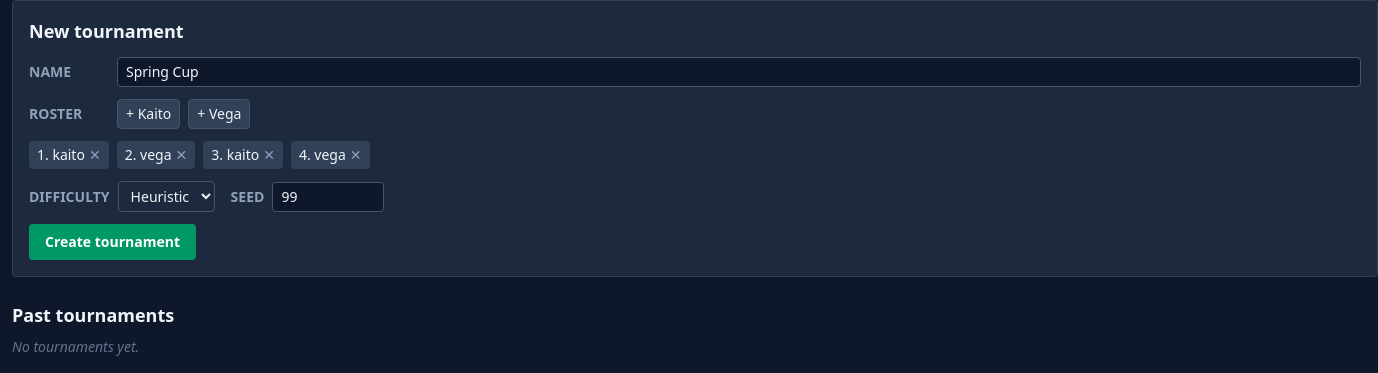
TournamentScreen › disables Create until the roster has at least two entrants
What coordinates should you click on to do the following:
click the button named "remove entrant"
I would click on:
 (95, 155)
Its box is [89,145,101,165].
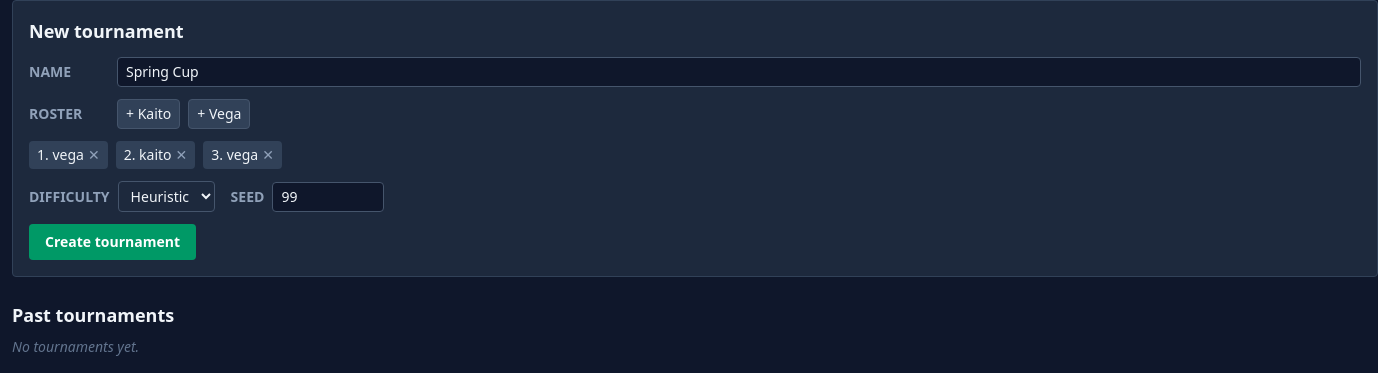
What coordinates should you click on to do the following:
click the button named "remove entrant"
I would click on:
 (94, 155)
Its box is [88,145,100,165].
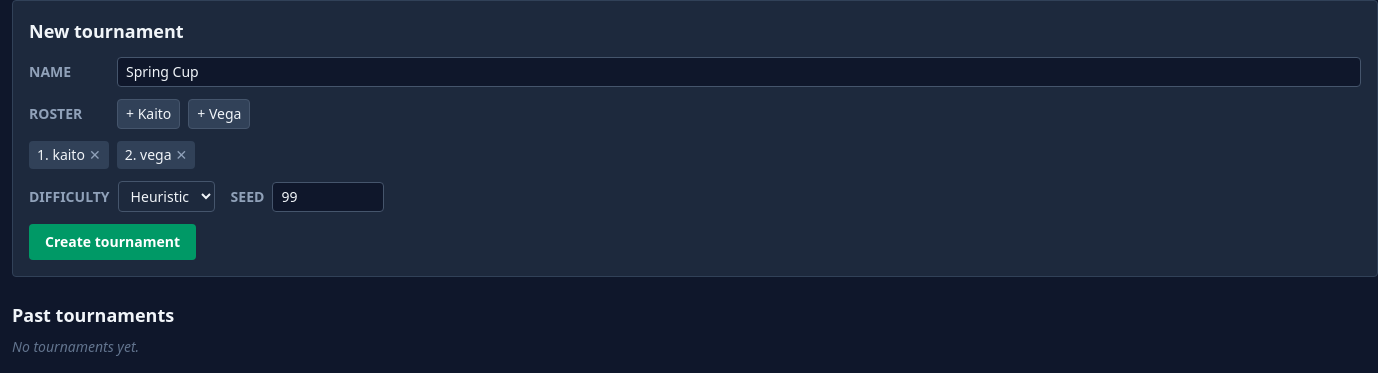
What coordinates should you click on to do the following:
click the button named "remove entrant"
I would click on:
 (95, 155)
Its box is [89,145,101,165].
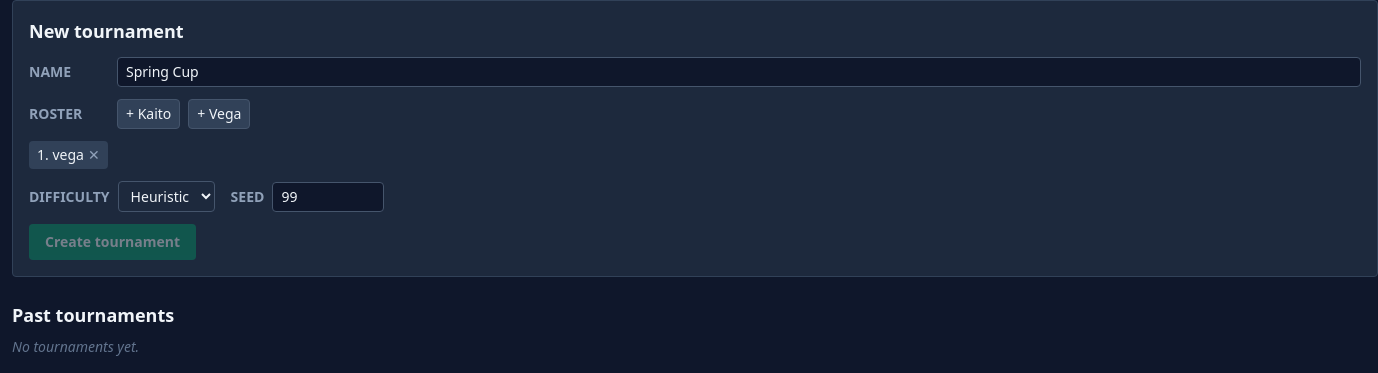
What coordinates should you click on to do the following:
click the button named "remove entrant"
I would click on:
 (94, 155)
Its box is [88,145,100,165].
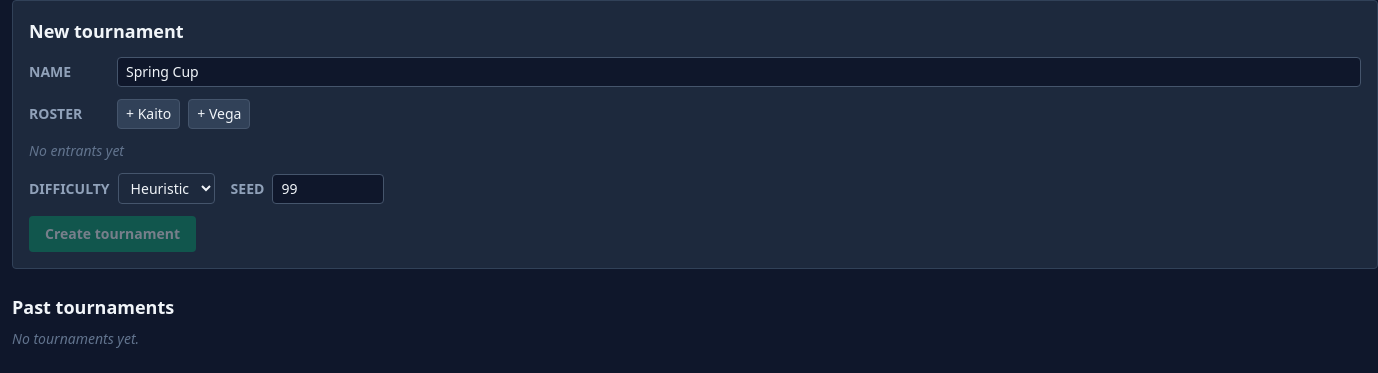
Now the button with test id "create-tournament" is disabled, box [29,216,196,252]
What coordinates should you click on to do the following:
click the button with test id "add-kaito"
I would click on:
 (149, 114)
Its box is [117,99,180,129].
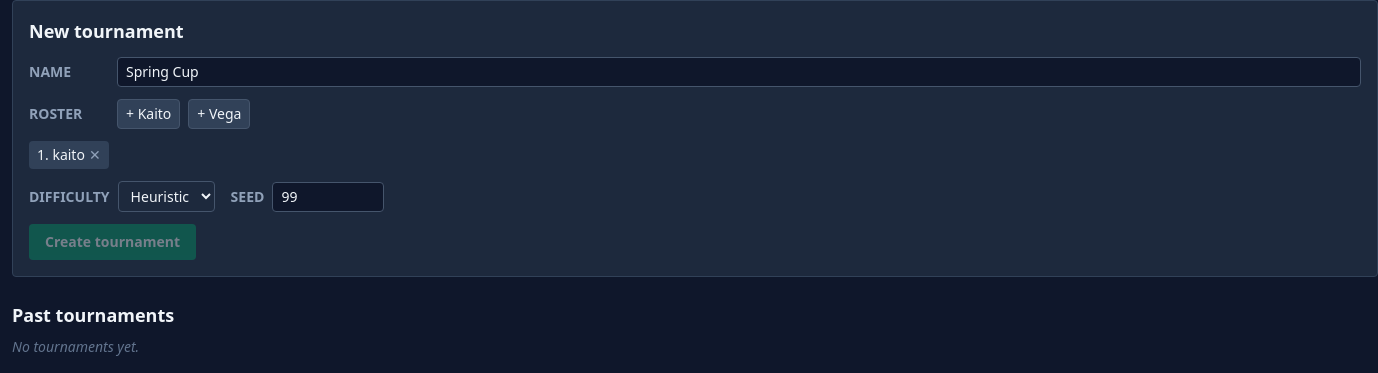
Now the button with test id "create-tournament" is disabled, box [29,224,196,260]
What coordinates should you click on to do the following:
click the button with test id "add-vega"
I would click on:
 (219, 114)
Its box is [188,99,250,129].
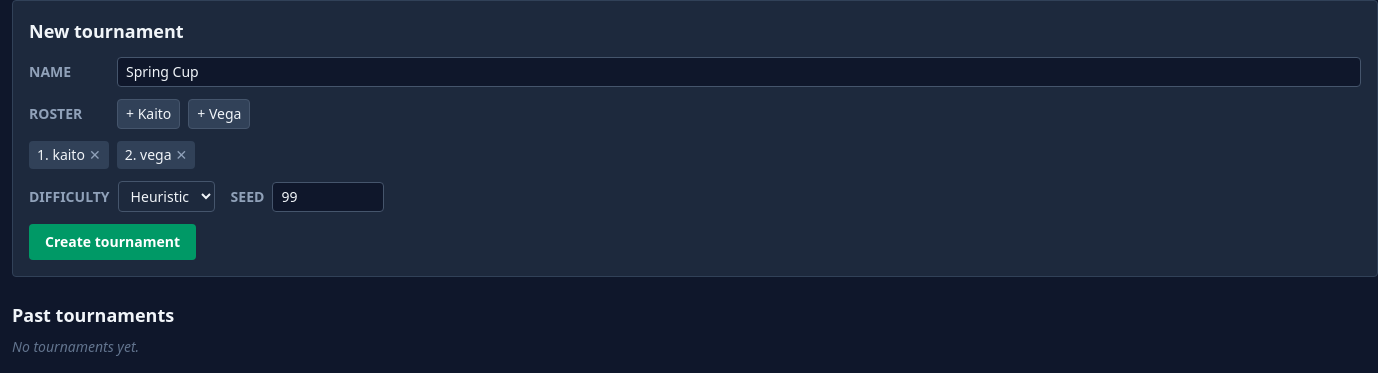
Now the button with test id "create-tournament" is enabled, box [29,224,196,260]
